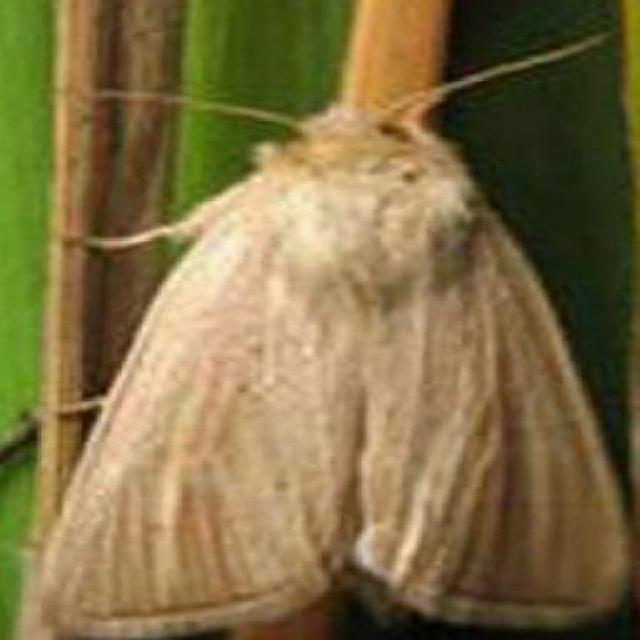stem-borer: (23, 27, 640, 640)
